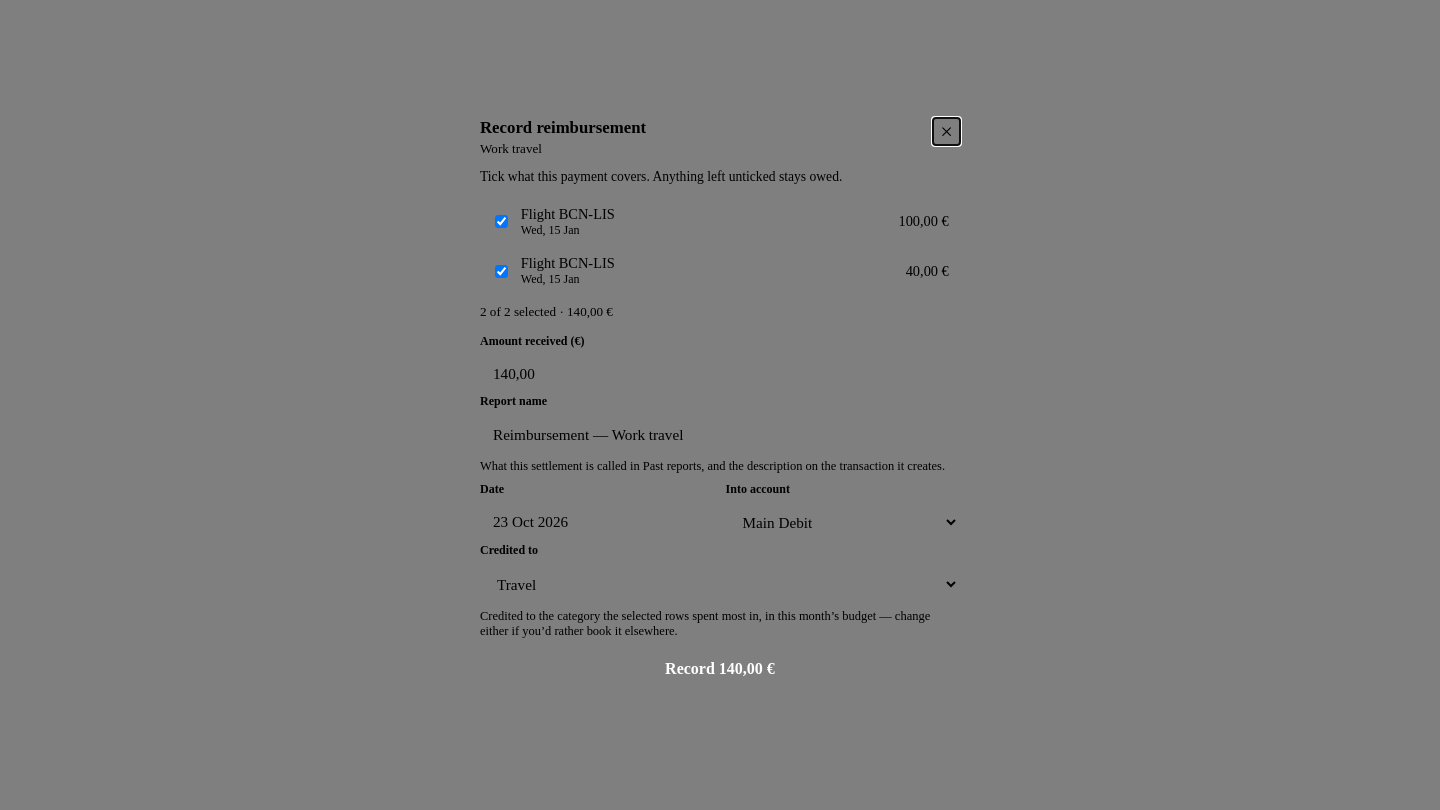
it: RecordReimbursementSheet — payment vs what was ticked › flags a shortfall, because ticked rows settle regardless of the amount
The width and height of the screenshot is (1440, 810).
Clear the field named "Amount received" at (733,374), box x1=480 y1=354 x2=986 y2=394
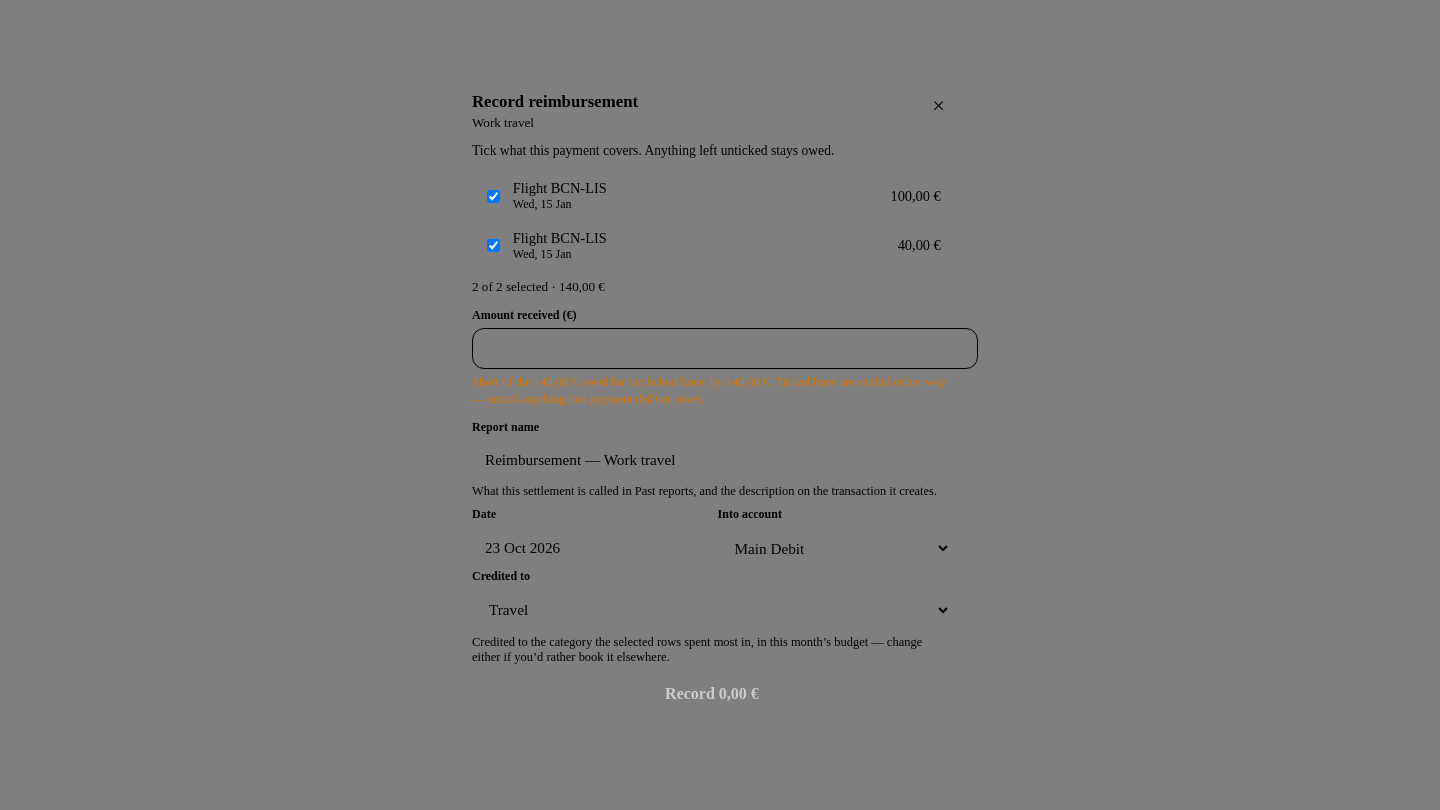
Type "90" into the field named "Amount received" at (725,348), box x1=472 y1=328 x2=978 y2=369
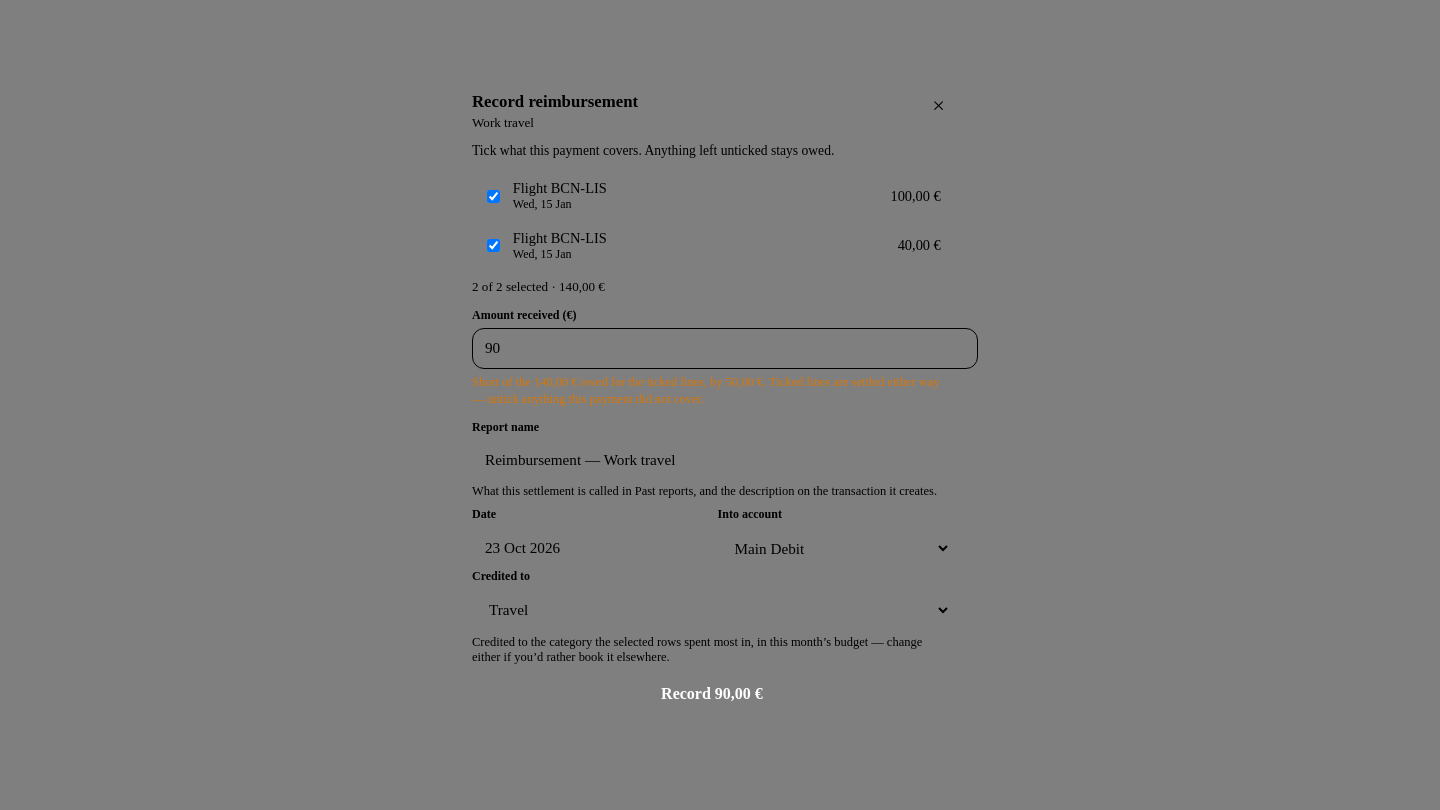
Check: the text "by 50,00" is shown, box x1=472 y1=375 x2=940 y2=406
